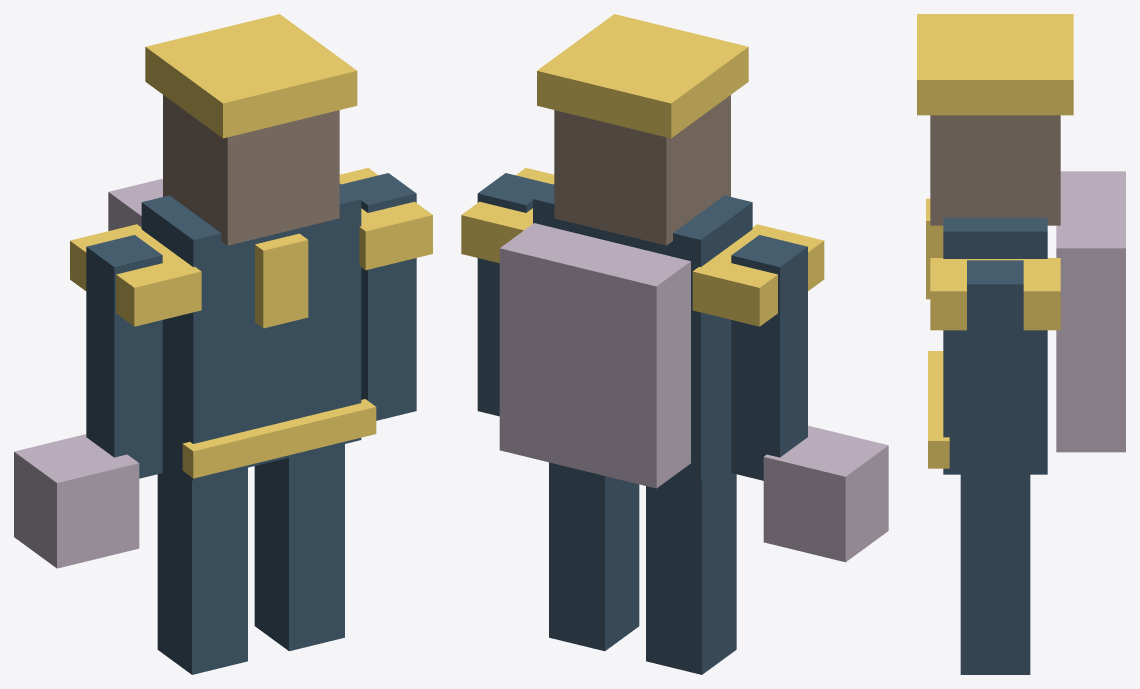
File: 03_quill_emberkin_operator_near_rooftop.glb
The picture shows the model from 3 angles, left to right: view 1: azimuth 30°, elevation 25°; view 2: azimuth 150°, elevation 25°; view 3: azimuth 270°, elevation 25°; orthographic projection.
Parts seen in each view (by area): view 1: Quill Emberkin, Operator near Rooftop; view 2: Quill Emberkin, Operator near Rooftop; view 3: Quill Emberkin, Operator near Rooftop.
Part boxes in pixels (x1,y1,x2,y2): Quill Emberkin, Operator near Rooftop: (14,14,432,674); Quill Emberkin, Operator near Rooftop: (461,14,888,674); Quill Emberkin, Operator near Rooftop: (917,14,1125,674).
Bounding box in the file's own units: 0.9809 × 1.48 × 0.4732.
